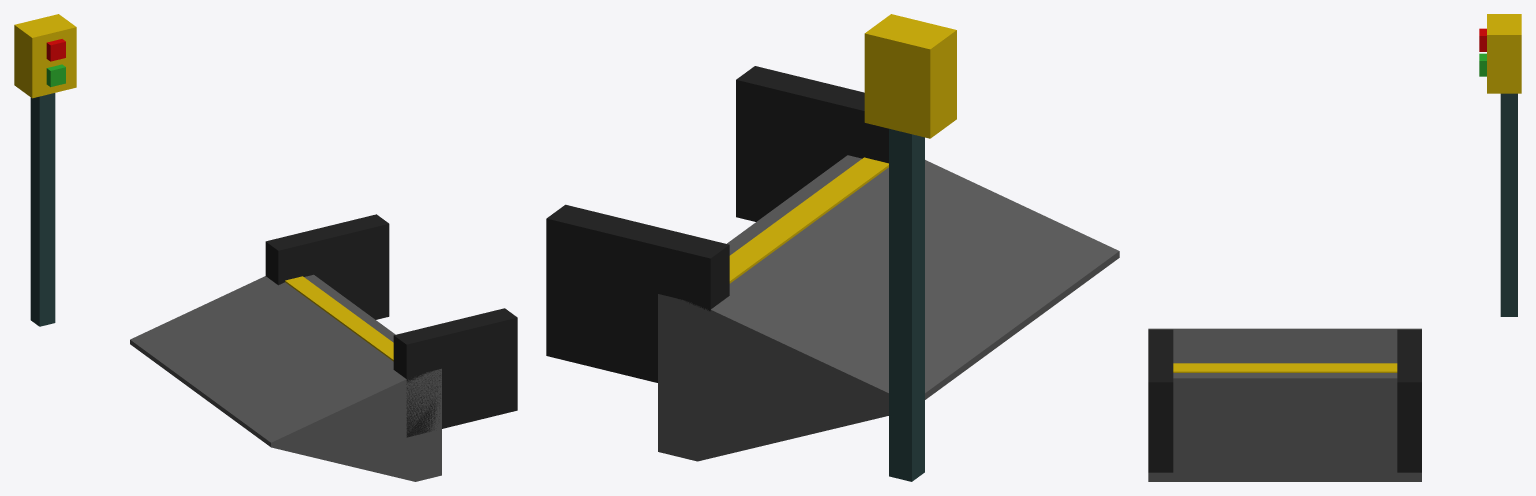
Rendered from magic_carpet_end.obj.
3 views of the same model, side by side, from view 1: azimuth 30°, elevation 25°; view 2: azimuth 150°, elevation 25°; view 3: azimuth 270°, elevation 25° (orthographic). The views are drawn at different scales.
Size of the model in its own units: 1.4 by 1.58 by 1.5.
